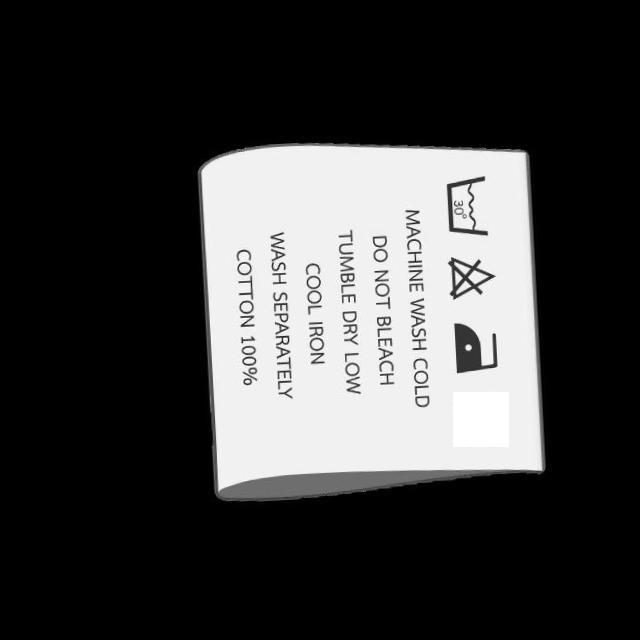30C: (442, 173, 490, 240)
DN_bleach: (444, 251, 500, 303)
iron_low: (449, 318, 502, 379)
